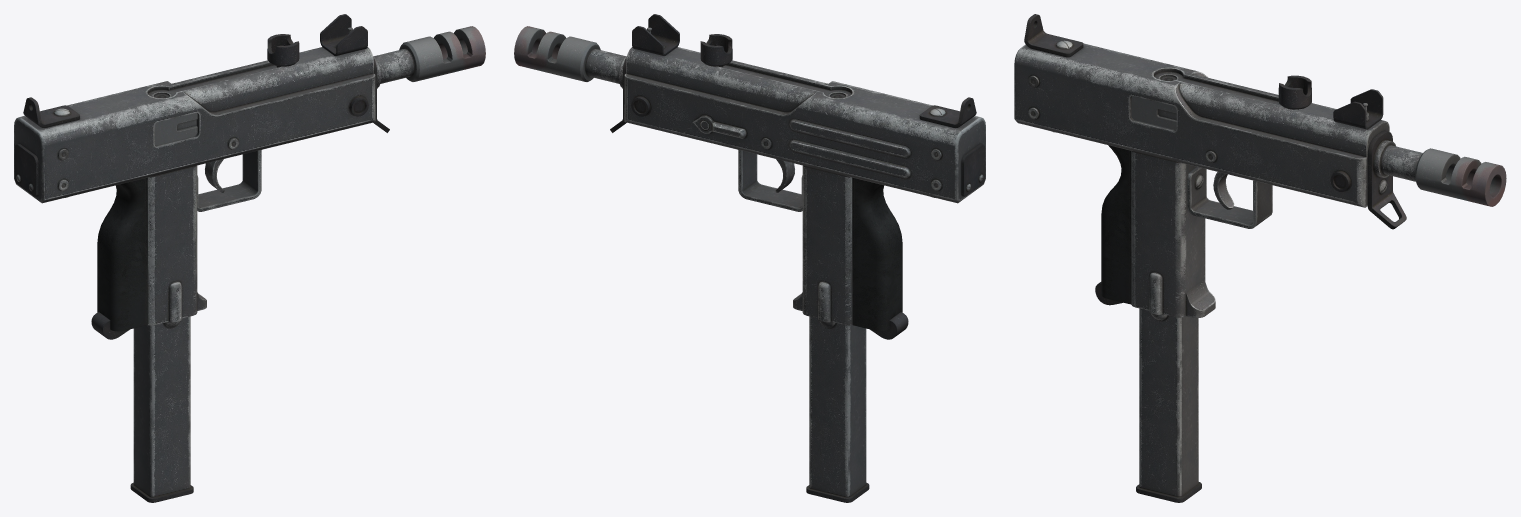
The model's file is dualsmg.glb.
3 views of the same model, side by side, from view 1: azimuth 30°, elevation 25°; view 2: azimuth 150°, elevation 25°; view 3: azimuth 330°, elevation 25° (orthographic). The views are drawn at different scales.
Parts seen in each view (by area): view 1: base, mag, base_2, bolt; view 2: base, mag, bolt; view 3: base, mag, base_2, bolt.
Part boxes in pixels (x1,y1,x2,y2): base: [14, 14, 485, 339]; mag: [130, 316, 193, 502]; base_2: [154, 113, 197, 145]; bolt: [267, 34, 299, 67]; base: [514, 14, 985, 339]; mag: [806, 316, 869, 502]; bolt: [700, 34, 732, 67]; base: [1014, 14, 1506, 318]; mag: [1136, 308, 1201, 502]; base_2: [1131, 96, 1176, 129]; bolt: [1278, 75, 1311, 109].
Size of the model in its own units: 0.3635 by 0.3252 by 0.0491.
Materials: 1 (1 with a texture image).
